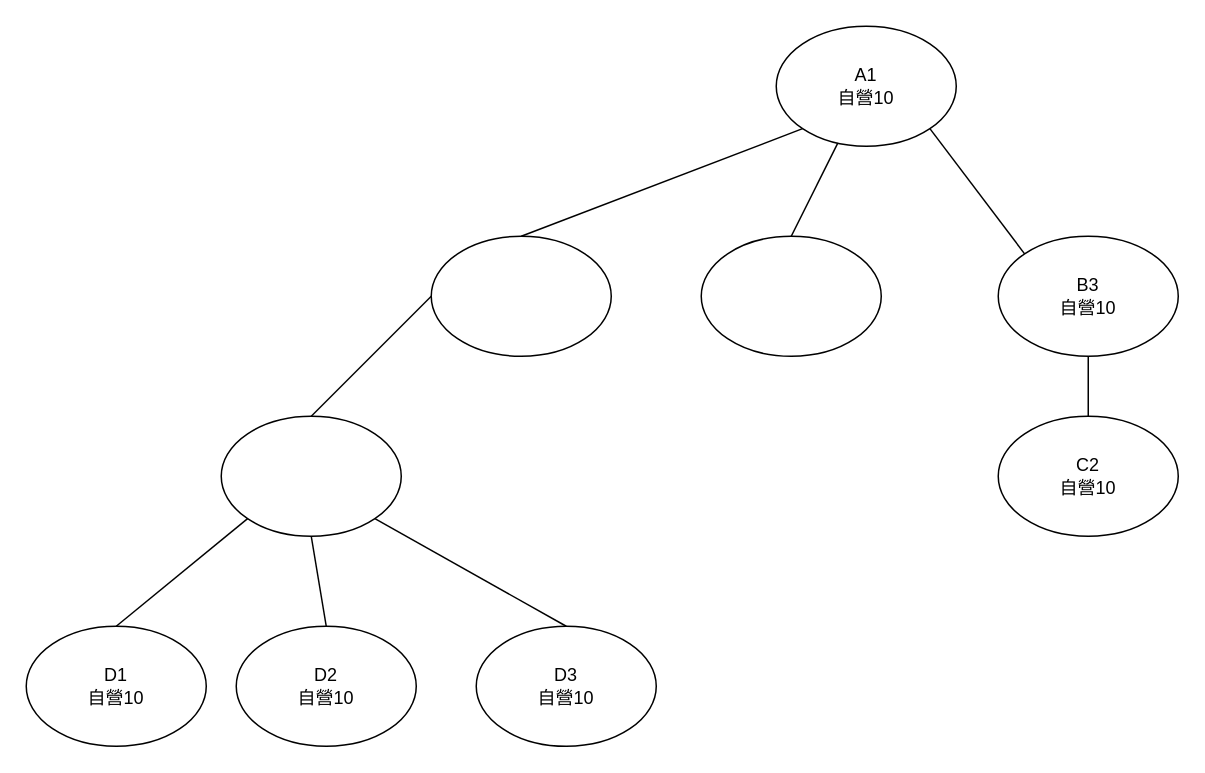
Image size: 1205x773. Some labels were removed from this diagram. Each missing label, with the centre of its shape:
"B1 自營10" goes at (x=520, y=295).
"B2 自營10" goes at (x=790, y=295).
"C1 自營10" goes at (x=310, y=475).
